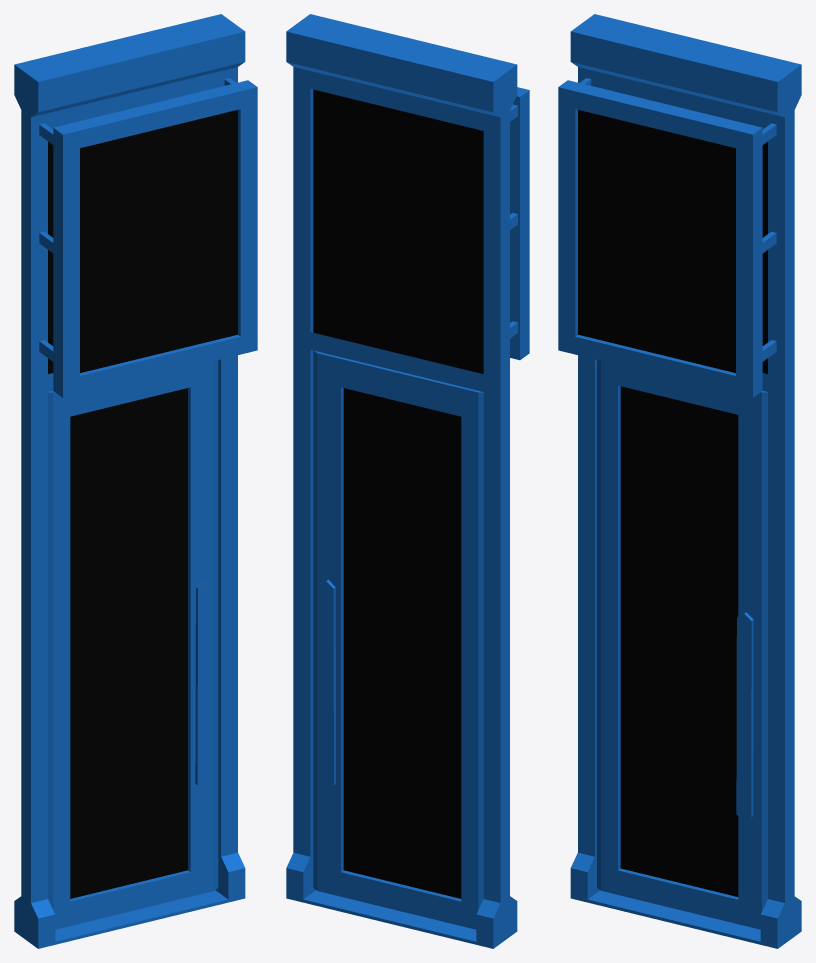
The model's file is SM_wall_with_door.fbx.
The picture shows the model from 3 angles, left to right: view 1: azimuth 30°, elevation 25°; view 2: azimuth 150°, elevation 25°; view 3: azimuth 330°, elevation 25°; orthographic projection.
Visible parts, largest first — view 1: wall_with_door, Boole_5; view 2: wall_with_door, Boole_5; view 3: wall_with_door, Boole_5.
Part boxes in pixels (left/top/right/bottom): wall_with_door: left=14, top=14, right=257, bottom=948; Boole_5: left=48, top=360, right=218, bottom=929; wall_with_door: left=286, top=14, right=529, bottom=948; Boole_5: left=313, top=350, right=483, bottom=929; wall_with_door: left=558, top=14, right=801, bottom=948; Boole_5: left=597, top=360, right=767, bottom=929.
Size of the model in its own units: 100 by 400 by 35.49.
